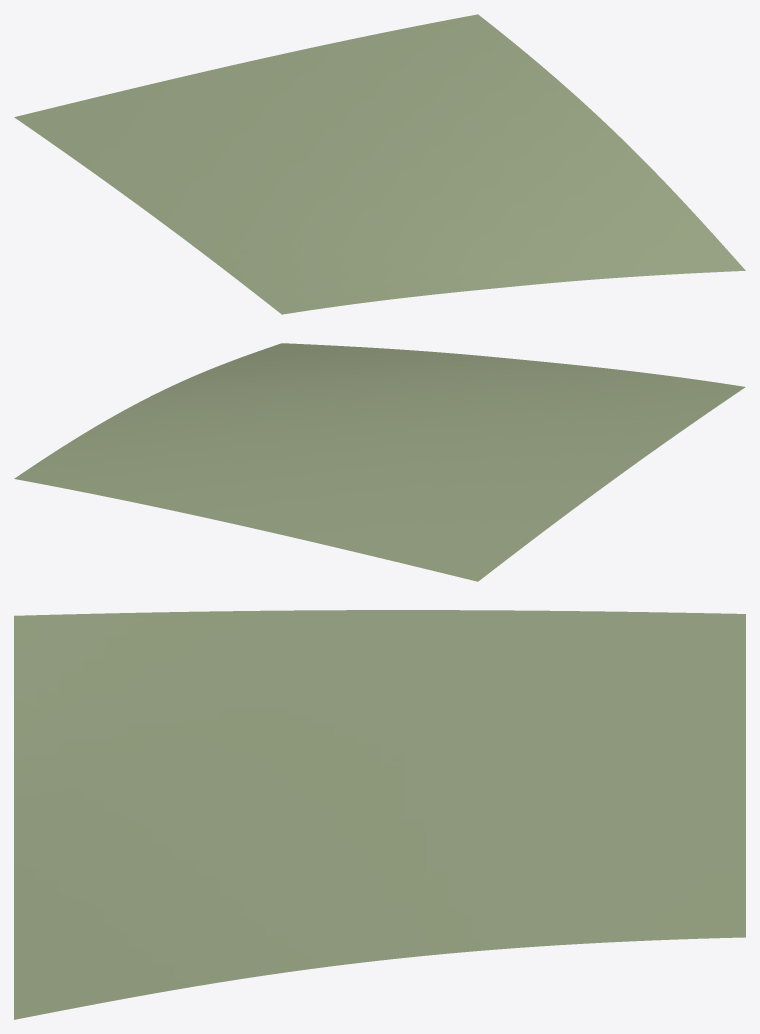
The model's file is expanse-8-21.glb.
The picture shows the model from 3 angles, top to bottom: view 1: azimuth 30°, elevation 25°; view 2: azimuth 150°, elevation 25°; view 3: azimuth 270°, elevation 25°; orthographic projection. The views are drawn at different scales.
Visible parts, largest first — view 1: expanse-8-21; view 2: expanse-8-21; view 3: expanse-8-21.
Boxes of the visible parts, x1=… form: expanse-8-21: x1=14, y1=14, x2=745, y2=314; expanse-8-21: x1=14, y1=343, x2=745, y2=581; expanse-8-21: x1=14, y1=610, x2=745, y2=1019.
Size of the model in its own units: 256 by 38.81 by 256.
